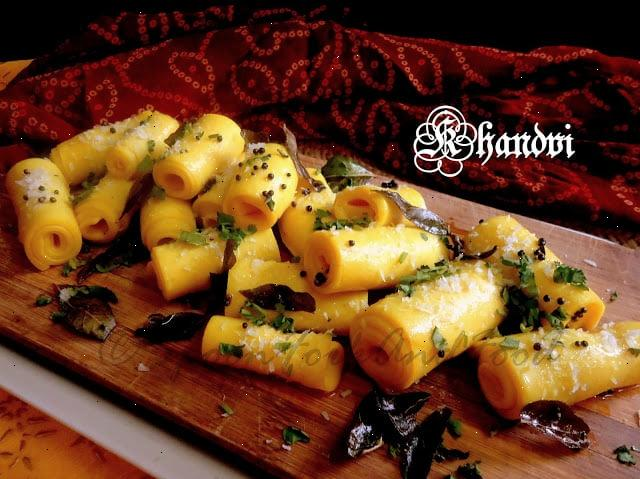khandvi: (1, 176, 634, 446)
